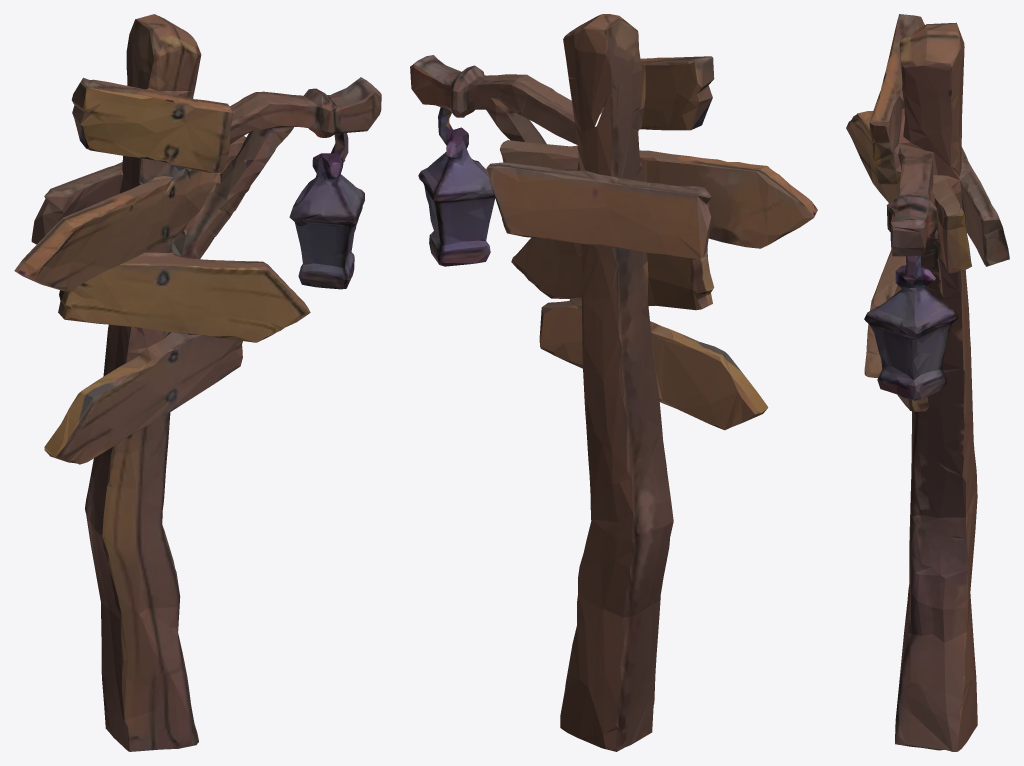
File: signpost.glb
The picture shows the model from 3 angles, left to right: view 1: azimuth 30°, elevation 25°; view 2: azimuth 150°, elevation 25°; view 3: azimuth 270°, elevation 25°; orthographic projection.
Visible parts, largest first — view 1: geometry_0; view 2: geometry_0; view 3: geometry_0.
Part boxes in pixels (bbox=[...]): geometry_0: bbox=[14, 14, 381, 751]; geometry_0: bbox=[410, 14, 817, 751]; geometry_0: bbox=[846, 14, 1009, 751].
Bounding box in the file's own units: 0.9568 × 1.72 × 0.3595.
1 material, 1 textured.
